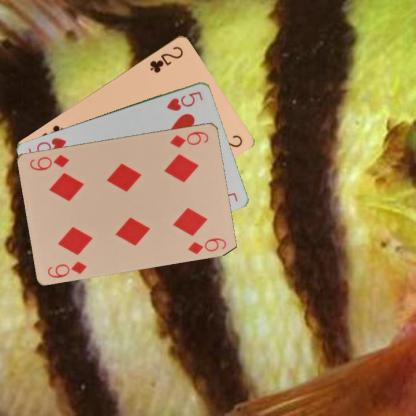2c: (147, 42, 185, 74)
5h: (164, 88, 205, 112)
6d: (45, 258, 88, 279), (168, 128, 210, 148)
